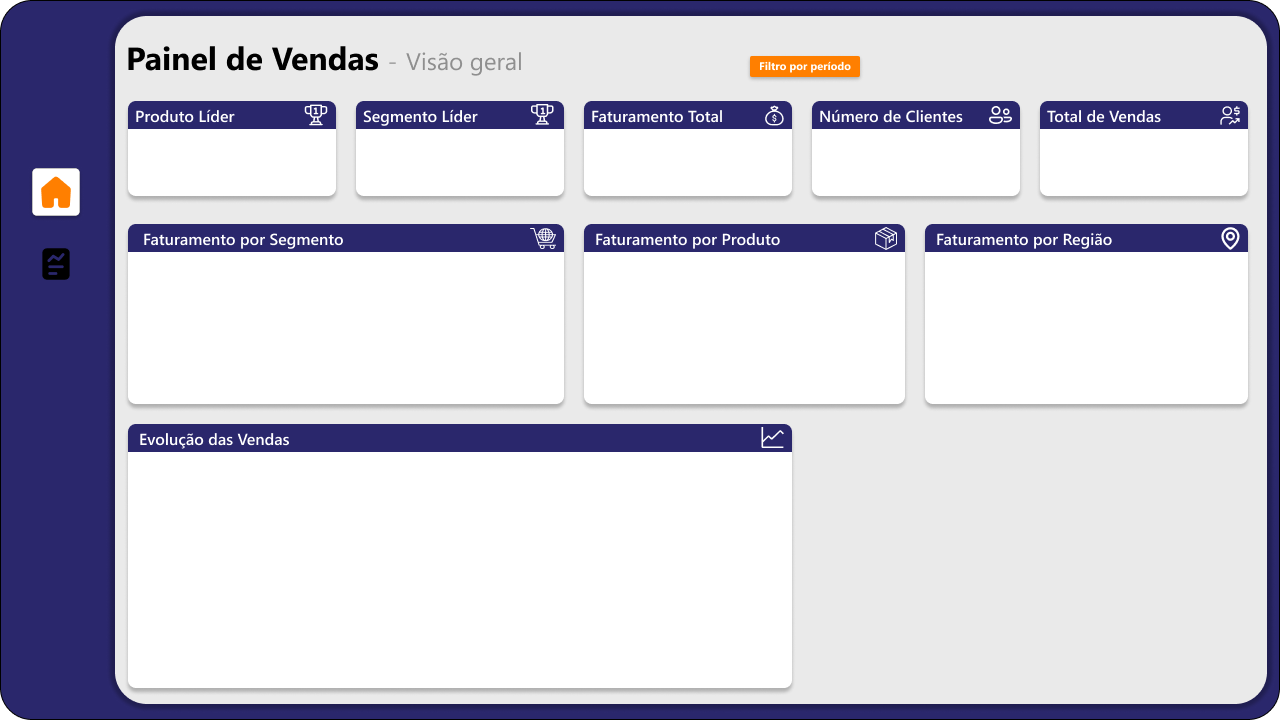

The page's visual inventory and layout, read from the dashboard file:
{"tool":"powerbi","page":{"name":"Dashboard","canvas":[1280,720],"ordinal":0},"visuals":[{"type":"card","title":"Total de Vendas","fields":{"Values":["Sum(ftVendas.Valor Total)"]},"box":[591.2,136.3,193,44.6],"z":0},{"type":"card","title":"Total de Clientes","fields":{"Values":["Count(dimClientes.ID do Cliente)"]},"box":[818,136.3,193,44.6],"z":1000},{"type":"card","title":"Total de Produtos Vendidos","fields":{"Values":["ftVendas.TotalQuantidadeVendida"]},"box":[1047.2,136.3,193,44.6],"z":2000},{"type":"donutChart","fields":{"Category":["dimClientes.Segmento"],"Y":["Sum(ftVendas.Valor Total)"]},"box":[133.9,253.4,425.9,146],"z":3000},{"type":"filledMap","fields":{"Category":["dimClientes.Região"],"Series":["dimClientes.Região"]},"box":[818,457.2,422.3,218.4],"z":4000},{"type":"areaChart","fields":{"Category":["ftVendas.Data da Venda.Variation.Hierarquia de datas.Mês","ftVendas.Data da Venda.Variation.Hierarquia de datas.Dia"],"Y":["Sum(ftVendas.Valor Total)"]},"box":[133.9,457.2,650.3,218.4],"z":5000},{"type":"barChart","fields":{"Y":["Sum(ftVendas.Valor Total)"],"Category":["dimProdutos.Nome do Produto"]},"box":[591.2,253.8,303.8,137.5],"z":6000},{"type":"barChart","fields":{"Y":["Sum(ftVendas.Valor Total)"],"Category":["dimClientes.Região"]},"box":[936.2,253.4,304,137.5],"z":7000},{"type":"card","fields":{"Values":["ftVendas.ProdutoTopVendas"]},"box":[138.7,136.3,184.6,44.6],"z":8000},{"type":"card","fields":{"Values":["ftVendas.SegmentoTopVendas"]},"box":[366.8,136.3,184.6,45.8],"z":9000},{"type":"actionButton","box":[26.5,640.6,47.1,43.4],"z":10000}]}

Visuals, with their boxes on the page's 1280x720 design canvas (x1, y1, x2, y2). These are canvas units, not pixel positions in the 1280x720 screenshot, which may show the page scaled, cropped or inside an application window:
"Total de Vendas" card: (x1=591, y1=136, x2=784, y2=181)
"Total de Clientes" card: (x1=818, y1=136, x2=1011, y2=181)
"Total de Produtos Vendidos" card: (x1=1047, y1=136, x2=1240, y2=181)
donutChart - dimClientes.Segmento x Sum(ftVendas.Valor Total): (x1=134, y1=253, x2=560, y2=399)
filledMap - dimClientes.Região x dimClientes.Região: (x1=818, y1=457, x2=1240, y2=676)
areaChart - ftVendas.Data da Venda.Variation.Hierarquia de datas.Mês x ftVendas.Data da Venda.Variation.Hierarquia de datas.Dia: (x1=134, y1=457, x2=784, y2=676)
barChart - Sum(ftVendas.Valor Total) x dimProdutos.Nome do Produto: (x1=591, y1=254, x2=895, y2=391)
barChart - Sum(ftVendas.Valor Total) x dimClientes.Região: (x1=936, y1=253, x2=1240, y2=391)
card - ftVendas.ProdutoTopVendas: (x1=139, y1=136, x2=323, y2=181)
card - ftVendas.SegmentoTopVendas: (x1=367, y1=136, x2=551, y2=182)
actionButton: (x1=26, y1=641, x2=74, y2=684)
